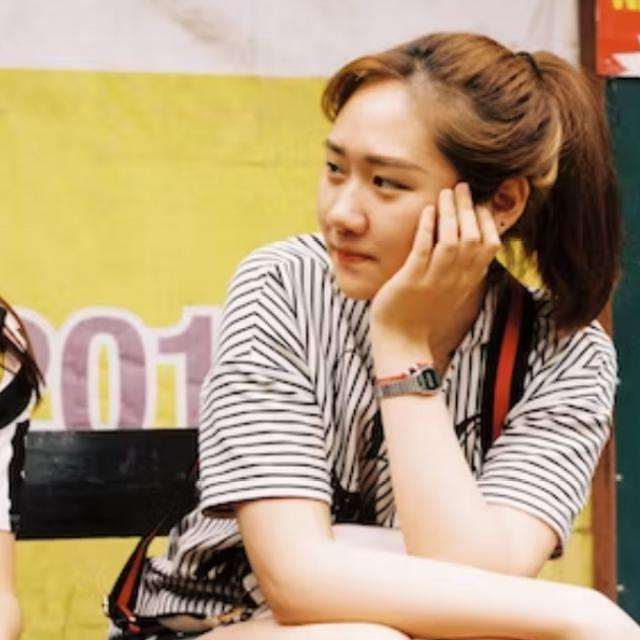Watch: (374, 359, 449, 406)
